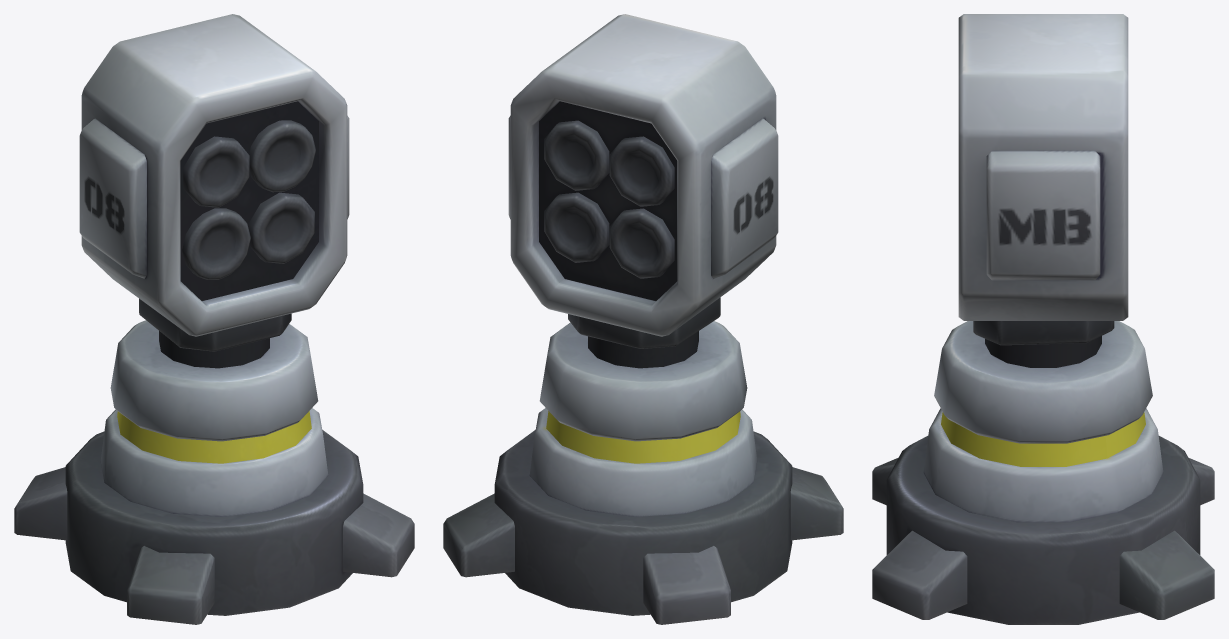
The model's file is SM_TowerDefense_SciFi_Weapon_Rocket_Base.fbx.
The picture shows the model from 3 angles, left to right: view 1: azimuth 30°, elevation 25°; view 2: azimuth 150°, elevation 25°; view 3: azimuth 270°, elevation 25°; orthographic projection. The views are drawn at different scales.
Parts seen in each view (by area): view 1: SM_TowerDefense_SciFi_Weapon_Rocket_Gun, SM_TowerDefense_SciFi_Weapon_Rocket_Base; view 2: SM_TowerDefense_SciFi_Weapon_Rocket_Gun, SM_TowerDefense_SciFi_Weapon_Rocket_Base; view 3: SM_TowerDefense_SciFi_Weapon_Rocket_Base, SM_TowerDefense_SciFi_Weapon_Rocket_Gun.
Boxes of the visible parts, bbox=[...] form: SM_TowerDefense_SciFi_Weapon_Rocket_Gun: bbox=[79, 14, 349, 368]; SM_TowerDefense_SciFi_Weapon_Rocket_Base: bbox=[14, 320, 414, 624]; SM_TowerDefense_SciFi_Weapon_Rocket_Gun: bbox=[508, 14, 778, 368]; SM_TowerDefense_SciFi_Weapon_Rocket_Base: bbox=[443, 321, 843, 624]; SM_TowerDefense_SciFi_Weapon_Rocket_Base: bbox=[872, 321, 1214, 624]; SM_TowerDefense_SciFi_Weapon_Rocket_Gun: bbox=[958, 14, 1128, 367].
Size of the model in its own units: 401 by 669 by 401.
